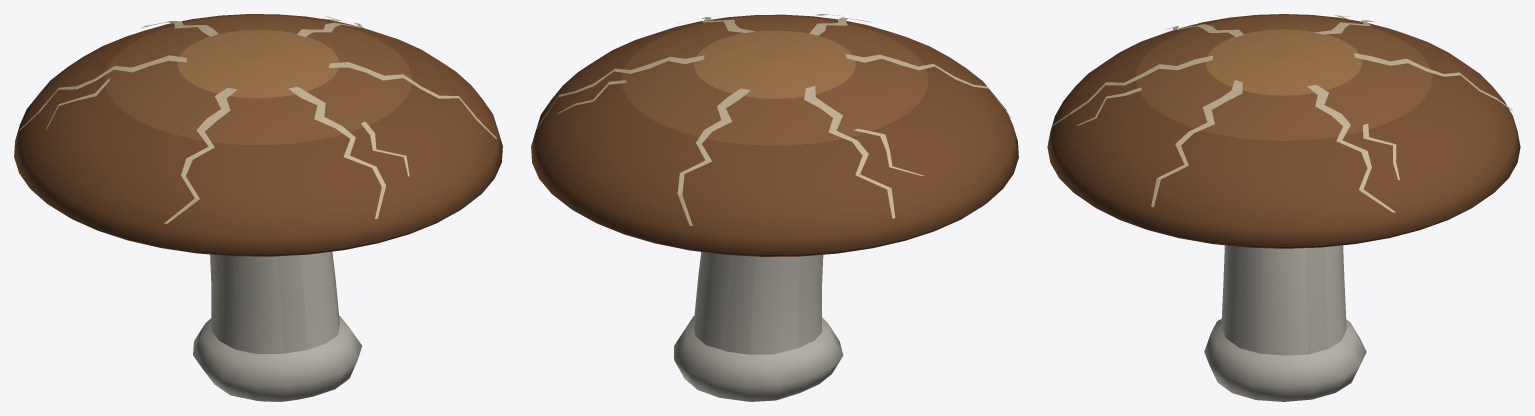
The model's file is giant_brown.glb.
3 renders of one model, left to right at view 1: azimuth 30°, elevation 25°; view 2: azimuth 150°, elevation 25°; view 3: azimuth 270°, elevation 25°, orthographic. The views are drawn at different scales.
Visible parts, largest first — view 1: body, body_nh; view 2: body, body_nh; view 3: body, body_nh.
Boxes of the visible parts, x1=… form: body: x1=14, y1=14, x2=502, y2=401; body_nh: x1=19, y1=16, x2=496, y2=223; body: x1=531, y1=14, x2=1018, y2=401; body_nh: x1=536, y1=14, x2=1011, y2=225; body: x1=1047, y1=14, x2=1520, y2=401; body_nh: x1=1052, y1=15, x2=1512, y2=212.
Size of the model in its own units: 7.2 by 5.44 by 7.2.
